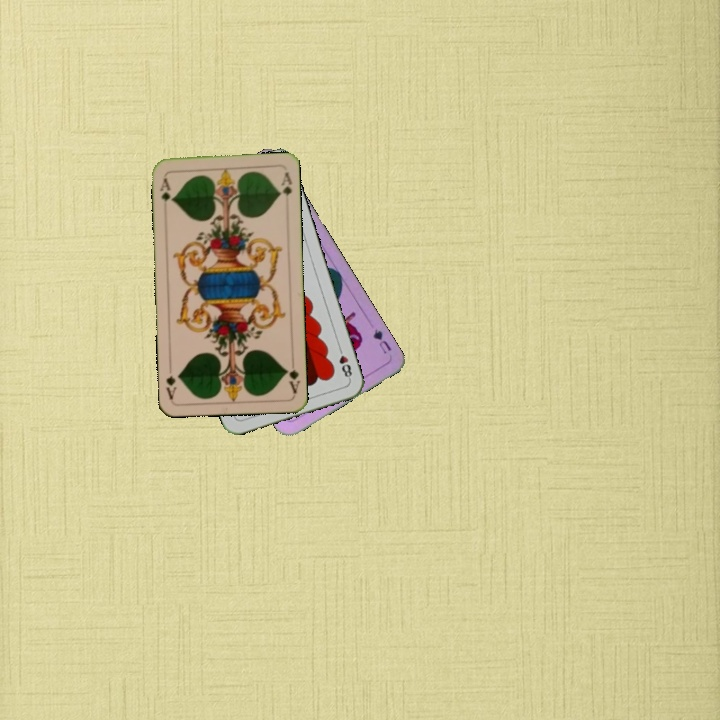GA: (282, 356, 302, 396), (155, 171, 175, 204)
GU: (369, 325, 394, 357)
H8: (334, 343, 355, 382)
